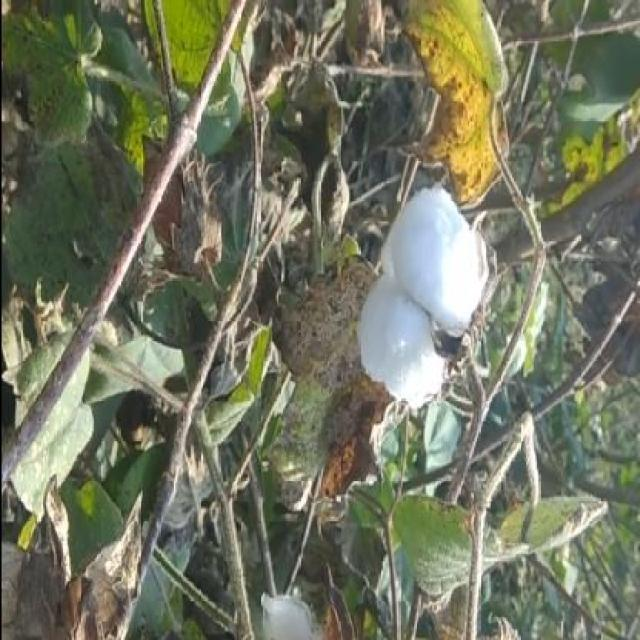cotton_ready: (350, 181, 498, 399)
